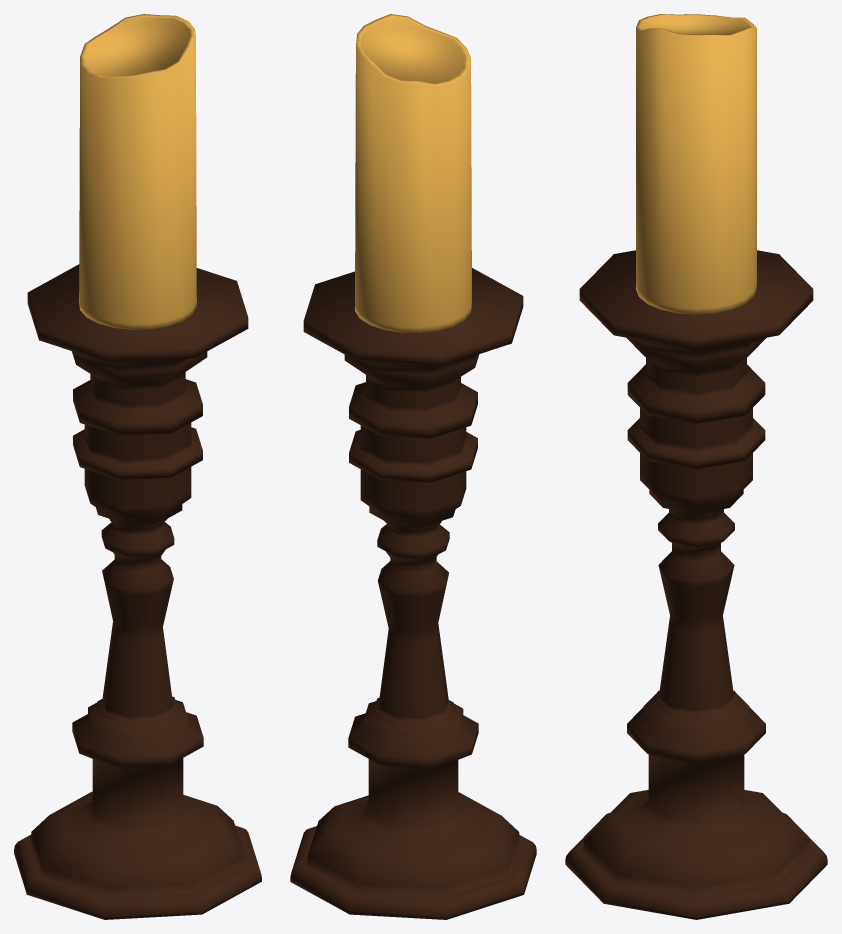
The model's file is light_table_tall.fbx.
The picture shows the model from 3 angles, left to right: view 1: azimuth 30°, elevation 25°; view 2: azimuth 150°, elevation 25°; view 3: azimuth 270°, elevation 25°; orthographic projection. The views are drawn at different scales.
Visible parts, largest first — view 1: Cylinder; view 2: Cylinder; view 3: Cylinder.
Boxes of the visible parts, x1,y1,x2,y2 form: Cylinder: [14, 14, 261, 919]; Cylinder: [290, 14, 536, 919]; Cylinder: [565, 14, 827, 919].
Bounding box in the file's own units: 122 × 438 × 122.
